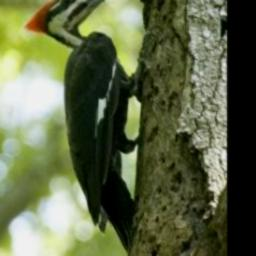Woodpecker: (23, 0, 145, 252)
